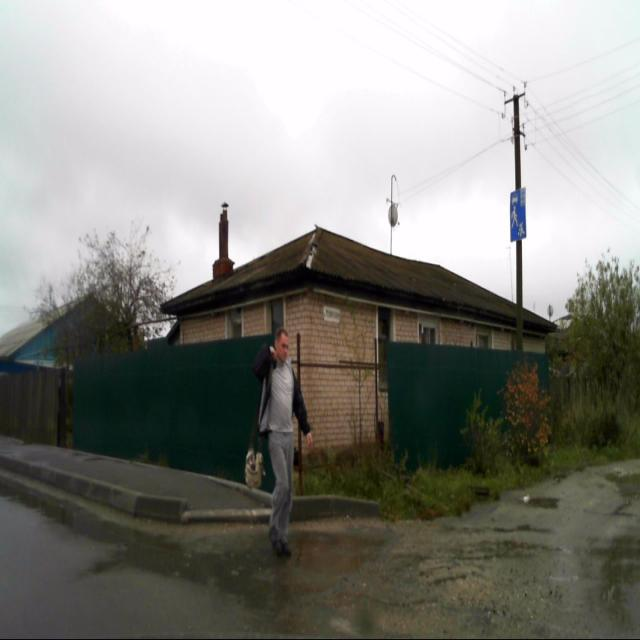road sign: (510, 187, 526, 242)
